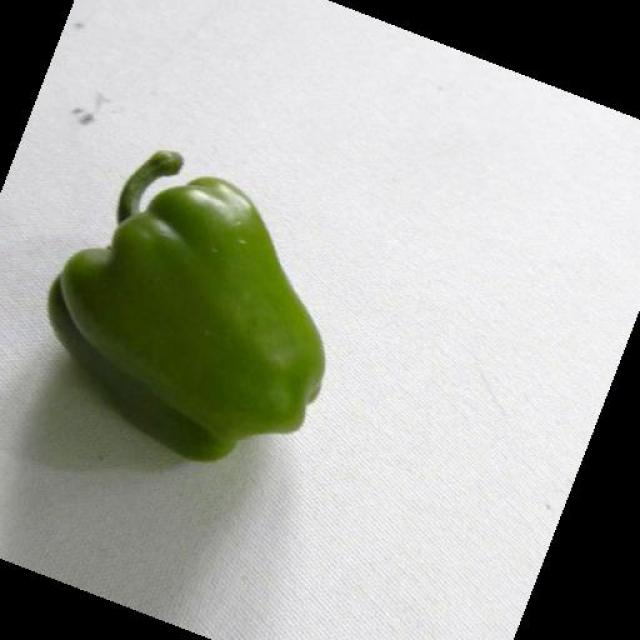Fresh_Capsicum: (35, 128, 341, 462)
